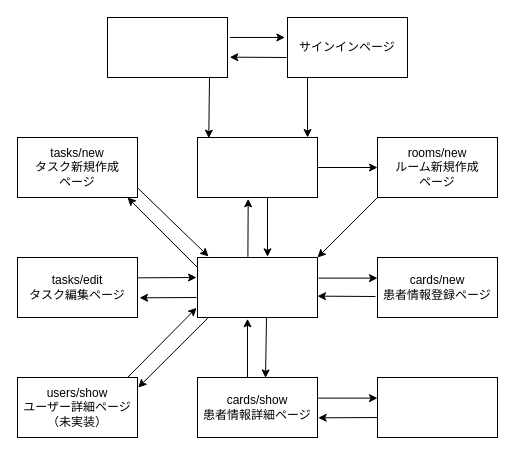
This 515x455 diagram has some shape labels left out. Here are the shapes that lost their labels. From the top down, the centre of each, then its label:
the point at 167,47: ユーザー新規登録 ページ
the point at 257,167: rooms/index トップページ
the point at 257,287: rooms/show メインページ
the point at 437,407: cards/edit 患者情報編集ページ
